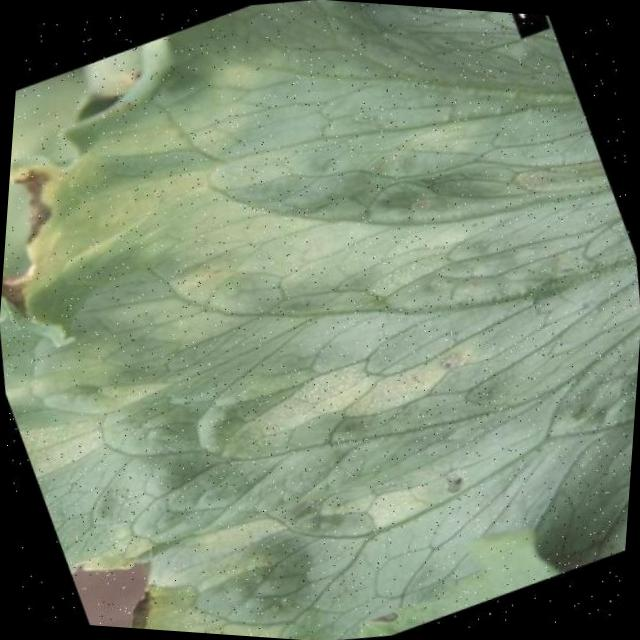Downy_Mildew: (0, 70, 238, 391)
Powdery_Mildew: (200, 274, 510, 506)
